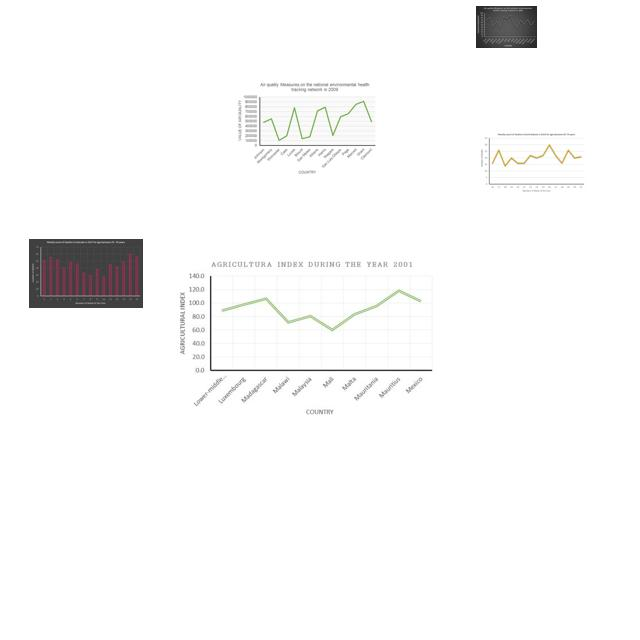Graph: (171, 256, 437, 416), (235, 81, 378, 176), (29, 239, 143, 308), (478, 130, 587, 195), (476, 6, 537, 48)
